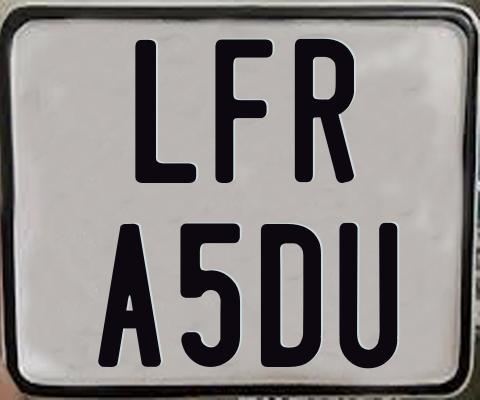5: (180, 222, 244, 370)
A: (98, 224, 167, 372)
D: (261, 222, 327, 371)
F: (215, 38, 276, 186)
L: (133, 40, 198, 183)
R: (294, 37, 359, 186)
U: (339, 223, 403, 372)
